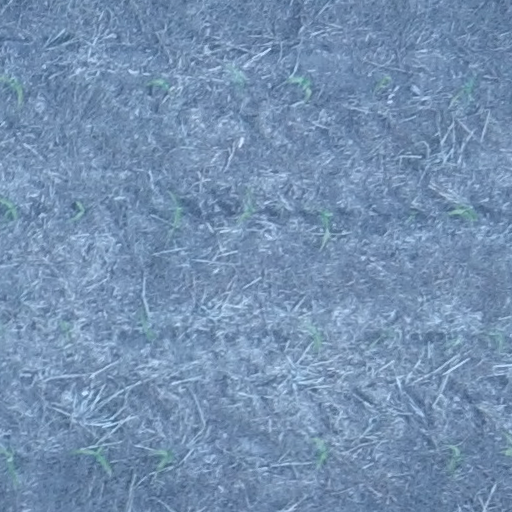planta: (66, 441, 115, 476), (296, 314, 326, 355), (232, 184, 259, 226), (164, 188, 186, 239), (442, 439, 467, 480), (307, 434, 334, 471), (283, 72, 314, 104), (480, 325, 509, 355), (444, 200, 480, 224), (149, 444, 176, 476), (316, 205, 335, 250), (448, 75, 477, 104), (136, 305, 158, 341), (142, 75, 176, 96), (225, 62, 246, 89), (57, 318, 77, 344), (68, 198, 87, 224), (372, 72, 393, 93), (376, 327, 398, 342), (443, 336, 463, 351)
